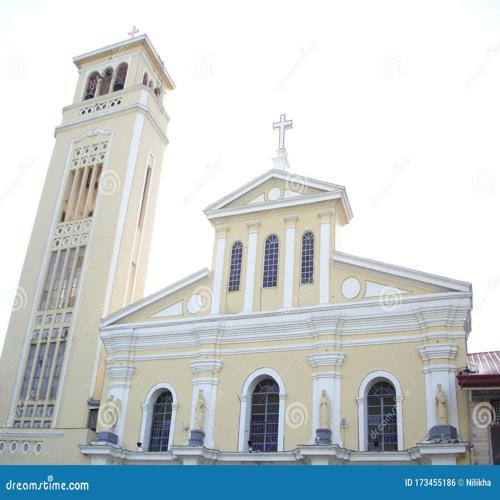Manaoag Church: (17, 26, 471, 456)
